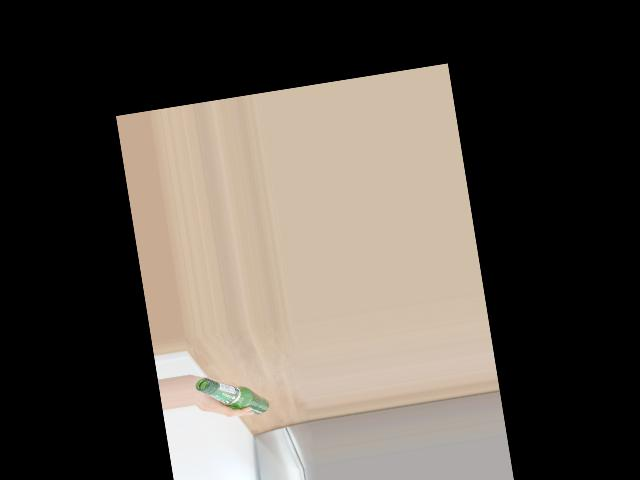beer: (194, 368, 270, 422)
